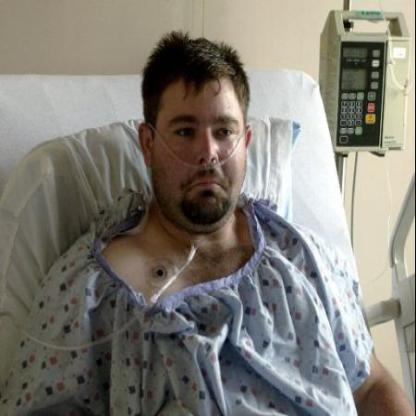face: (152, 42, 251, 231)
